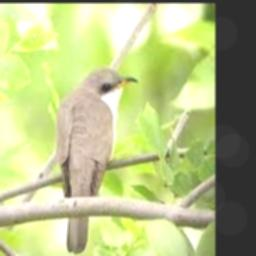Cuckoo: (54, 68, 138, 254)
